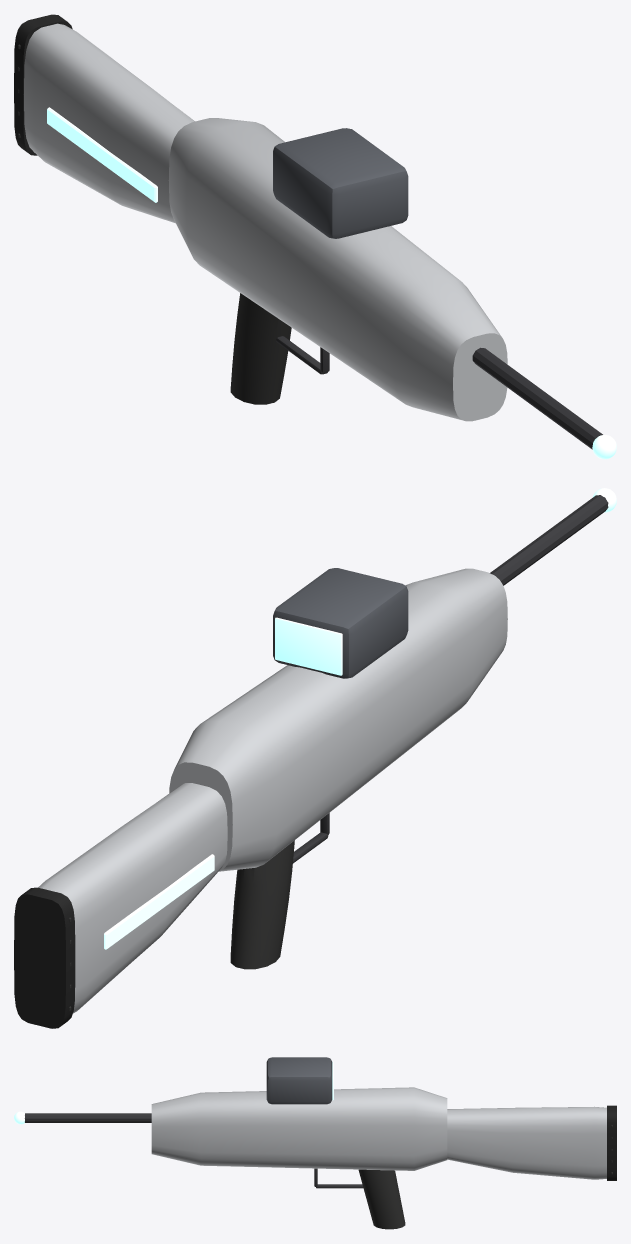
File: psiblade.glb
3 renders of one model, top to bottom at view 1: azimuth 30°, elevation 25°; view 2: azimuth 150°, elevation 25°; view 3: azimuth 270°, elevation 25°, orthographic. The views are drawn at different scales.
Parts seen in each view (by area): view 1: Body; view 2: Body; view 3: Body.
Boxes of the visible parts, left/top/right/bottom form: Body: left=14, top=14, right=616, bottom=459; Body: left=14, top=488, right=616, bottom=1028; Body: left=14, top=1057, right=616, bottom=1229.
Size of the model in its own units: 0.068 by 0.2129 by 0.735.
